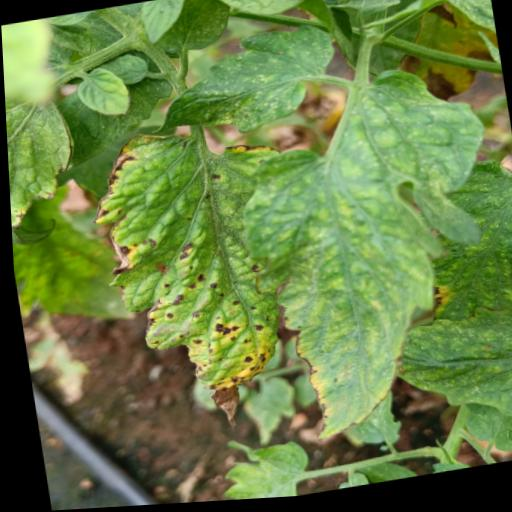Early Blight: (78, 109, 326, 446)
